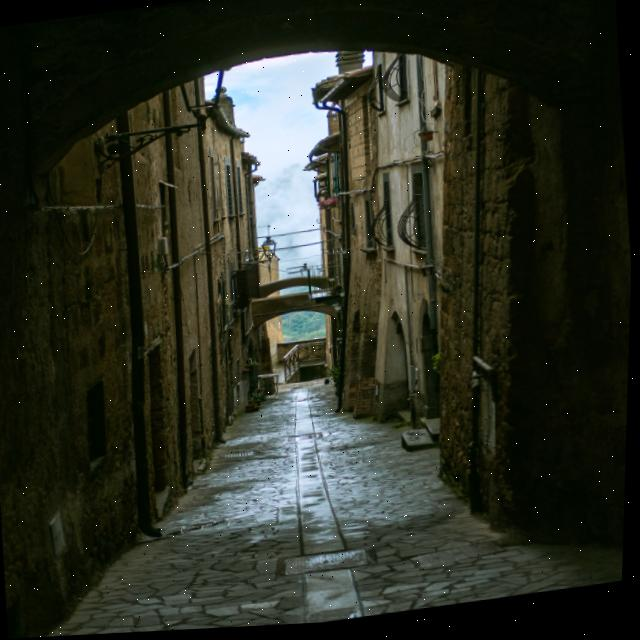building: (294, 9, 639, 549), (17, 57, 310, 553)
